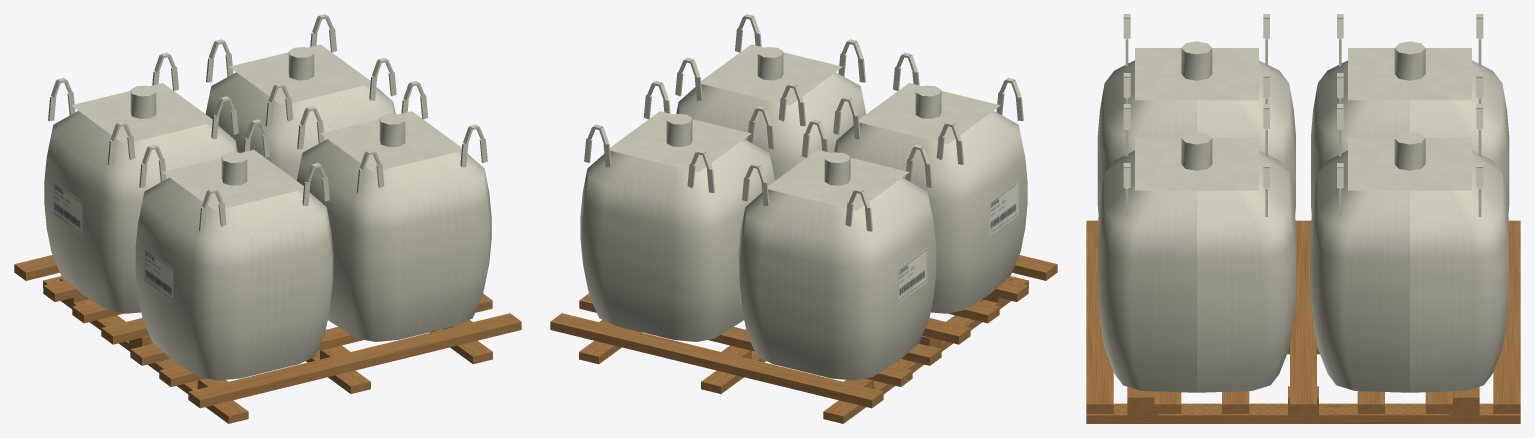
Rendered from big_bags.glb.
The picture shows the model from 3 angles, left to right: view 1: azimuth 30°, elevation 25°; view 2: azimuth 150°, elevation 25°; view 3: azimuth 270°, elevation 25°; orthographic projection. The views are drawn at different scales.
Visible parts, largest first — view 1: Unbleached woven fabric, Pine dunnage, Packing label; view 2: Unbleached woven fabric, Pine dunnage, Packing label; view 3: Unbleached woven fabric, Pine dunnage.
Boxes of the visible parts, x1,y1,x2,y2 form: Unbleached woven fabric: (44,14,491,380); Pine dunnage: (14,255,521,423); Packing label: (53,180,331,302); Unbleached woven fabric: (580,14,1027,380); Pine dunnage: (550,255,1057,423); Packing label: (740,180,1018,302); Unbleached woven fabric: (1097,14,1509,392); Pine dunnage: (1086,220,1520,423).
Size of the model in its own units: 2.24 by 1.47 by 2.24.
3 materials, 3 textured.
